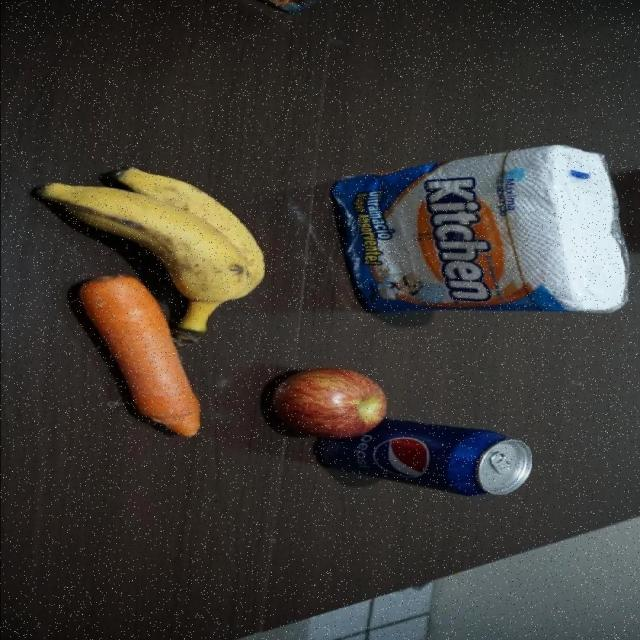Apple: (270, 368, 392, 440)
Banana: (34, 165, 267, 349)
Carrot: (72, 271, 207, 441)
Cracker: (241, 0, 333, 18)
Napkin: (330, 141, 630, 325)
SodaCan: (314, 418, 533, 498)
